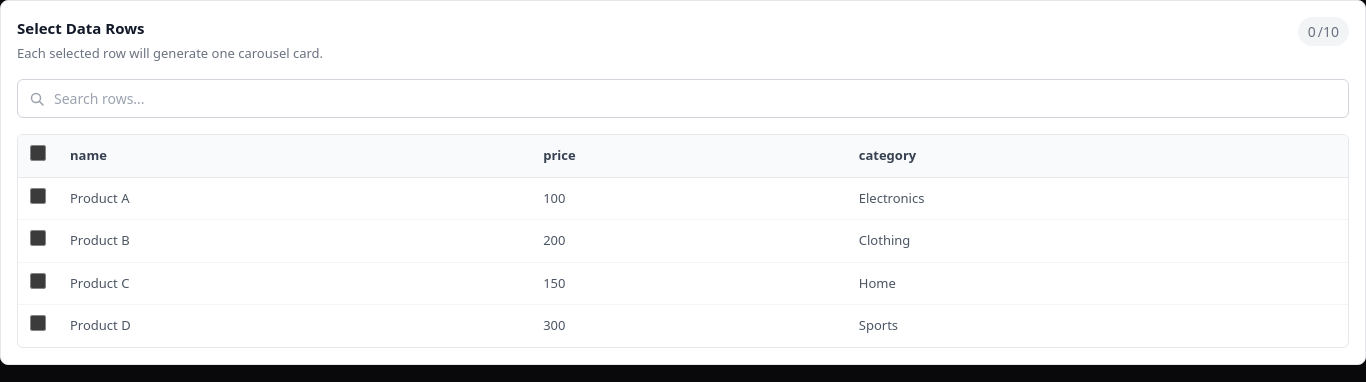
Test case: DataRowSelector › filters rows based on search
Step 1. Type "Product A" into the field with placeholder "Search rows..." → {"x": 683, "y": 98}, box top-left (17, 79), bottom-right (1349, 118)
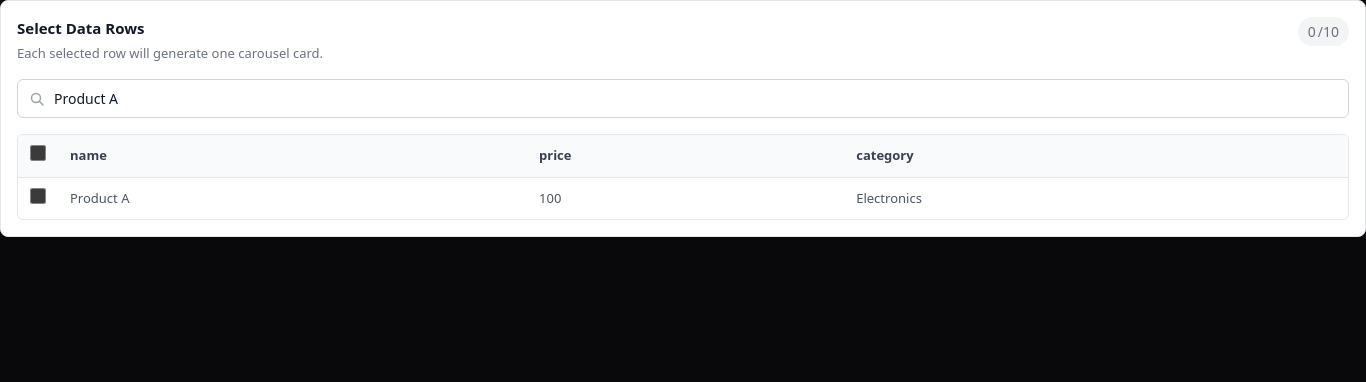
expect the text "Product A" is shown: met, box top-left (58, 177), bottom-right (527, 219)
expect the text "Product B" is gone: met
